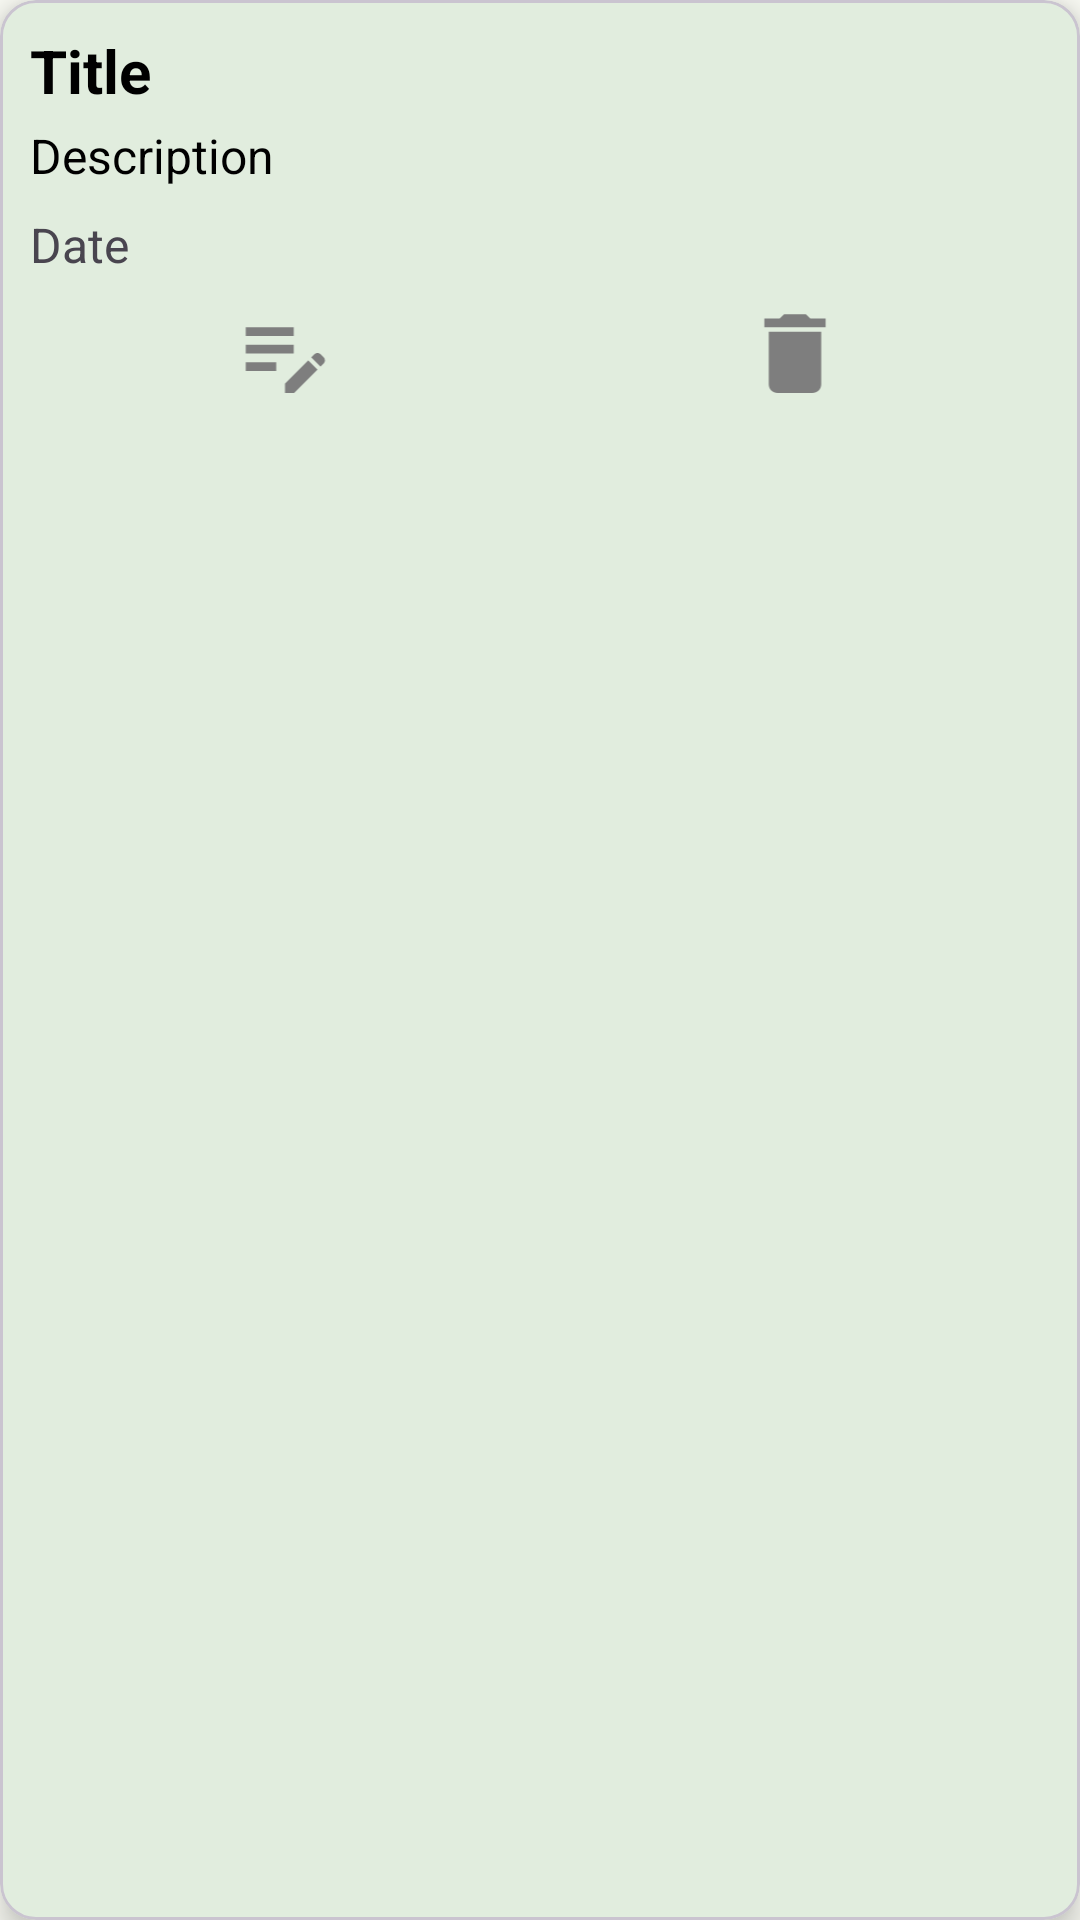

Icon bounding boxes for this 1080w x 1920h phone screenshot, format (x1, y1, x2, y2):
delete: (764, 314, 826, 393)
edit: (245, 327, 325, 393)
